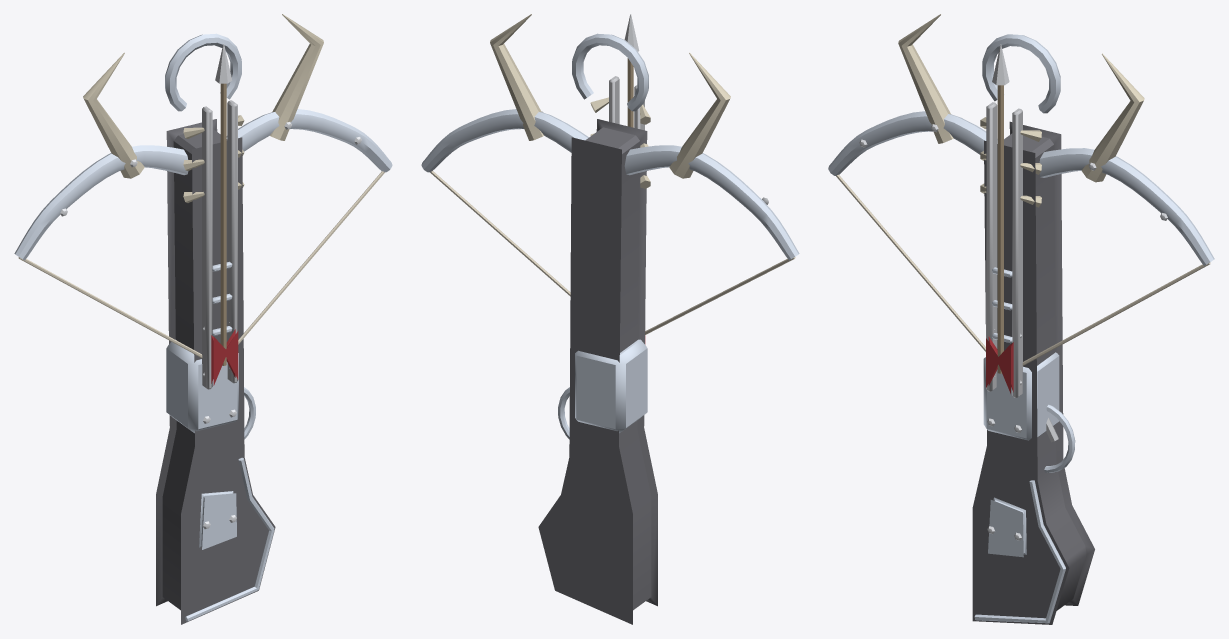
Rendered from tc_starfall_crossbow.glb.
The picture shows the model from 3 angles, left to right: view 1: azimuth 30°, elevation 25°; view 2: azimuth 150°, elevation 25°; view 3: azimuth 330°, elevation 25°; orthographic projection. The views are drawn at different scales.
Parts seen in each view (by area): view 1: tc_starfall_crossbow; view 2: tc_starfall_crossbow; view 3: tc_starfall_crossbow.
Part boxes in pixels (x1,y1,x2,y2): tc_starfall_crossbow: (14,14,392,624); tc_starfall_crossbow: (421,14,799,624); tc_starfall_crossbow: (828,14,1214,624).
Bounding box in the file's own units: 0.8601 × 1.26 × 0.1545.
